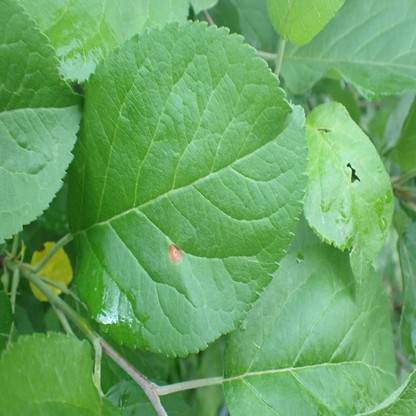frogeye: (170, 244, 182, 262)
